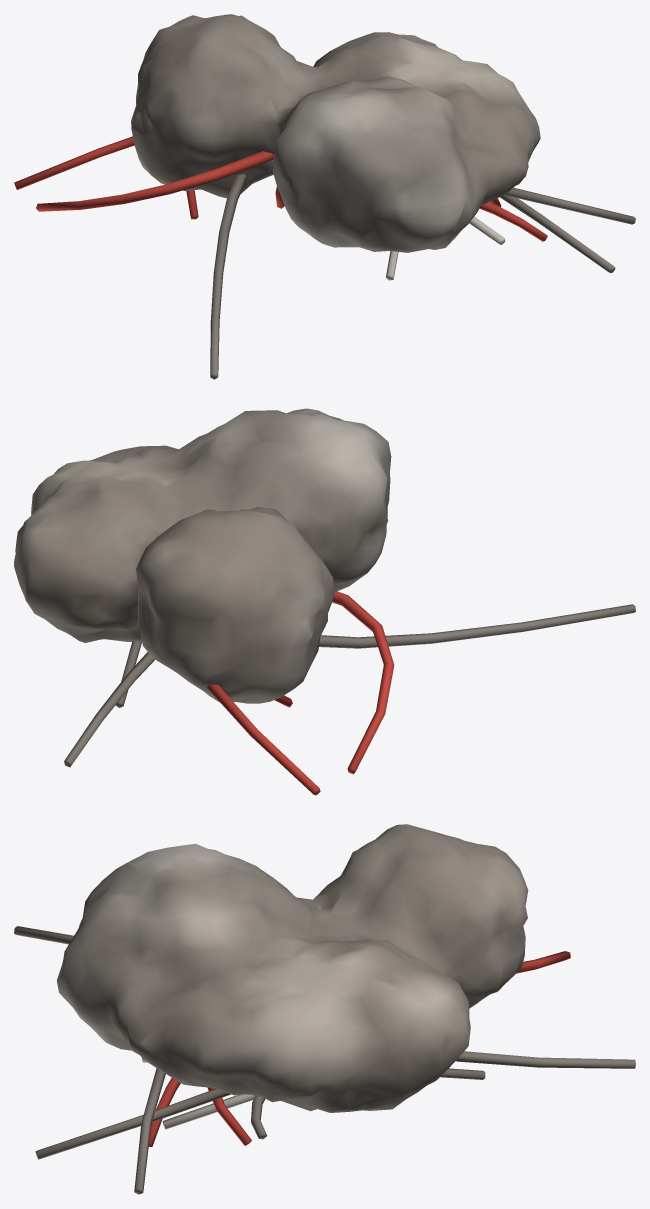
The model's file is den_dust_clump.glb.
3 views of the same model, one above another, from view 1: azimuth 30°, elevation 25°; view 2: azimuth 150°, elevation 25°; view 3: azimuth 270°, elevation 25° (orthographic). The views are drawn at different scales.
Visible parts, largest first — view 1: den_dust_clump; view 2: den_dust_clump; view 3: den_dust_clump.
Part boxes in pixels (box(x1,y1,x2,y2)): den_dust_clump: box(14, 14, 635, 379); den_dust_clump: box(14, 408, 635, 795); den_dust_clump: box(14, 824, 635, 1194).
Size of the model in its own units: 7.75 by 2.75 by 7.74.
